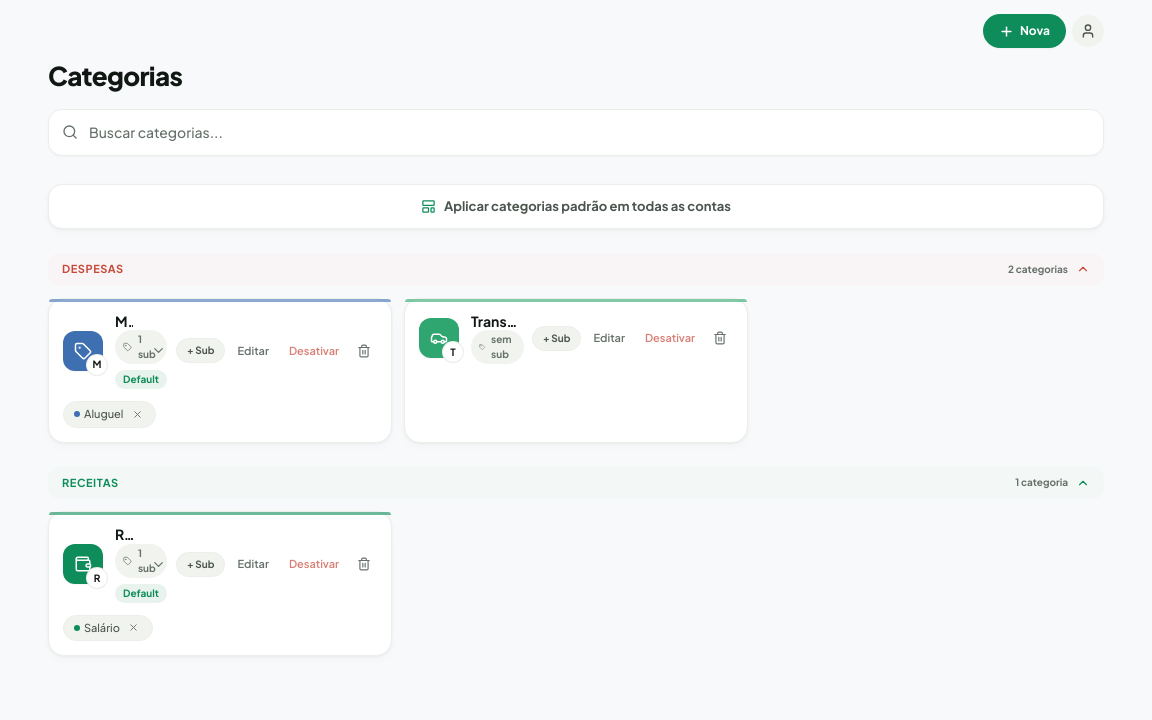
Test case: CategoriesPage — macros, defaults e exclusão (item 11) › busca encontra macro por nome de sub-objeto
In the field with placeholder "Buscar categorias...": (576, 132) [48,108,1104,156], type "Aluguel"
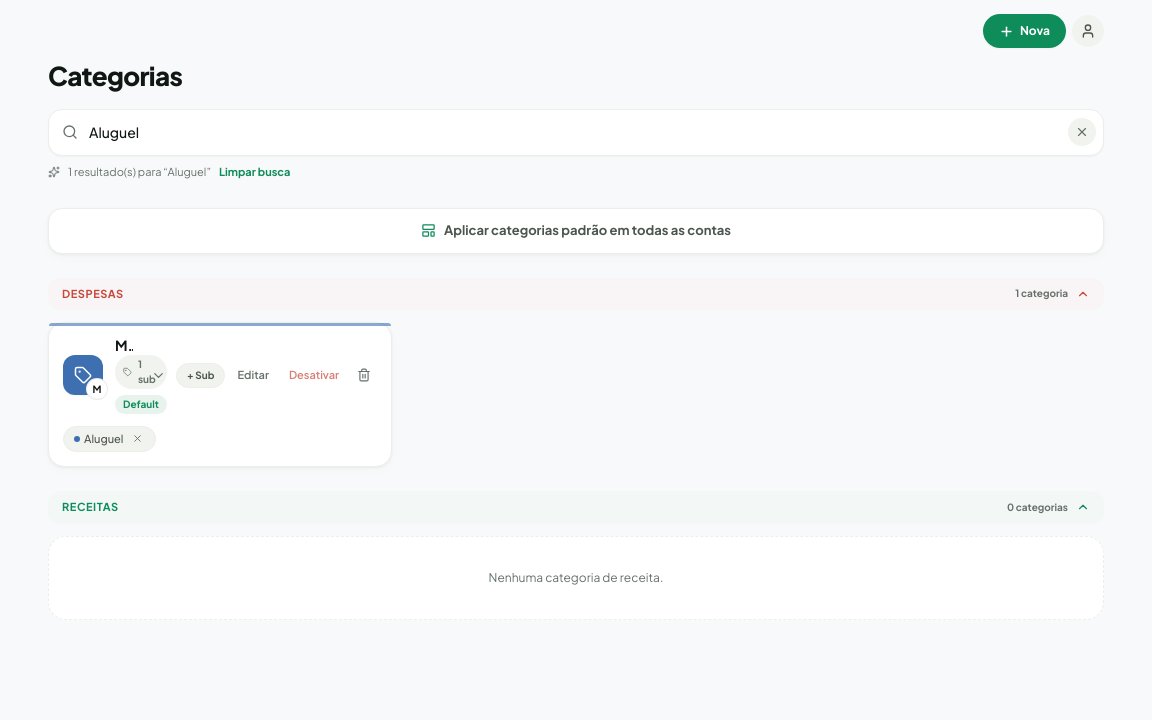
Expected: the text "Moradia" is shown, [115,337,133,354]
Expected: the text "Renda" is gone
